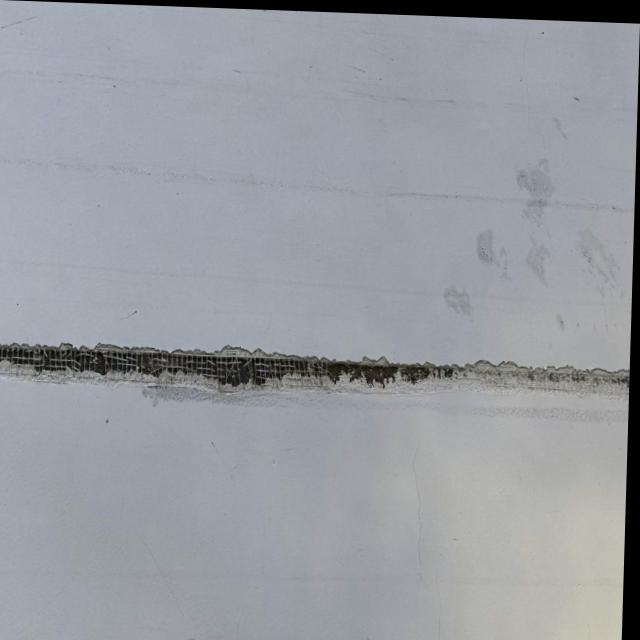spalling: (0, 333, 630, 412)
